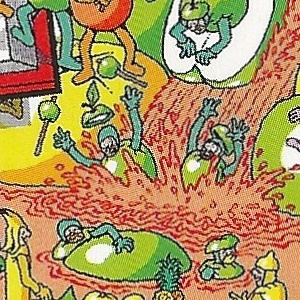Charlie: (143, 116, 157, 184)
